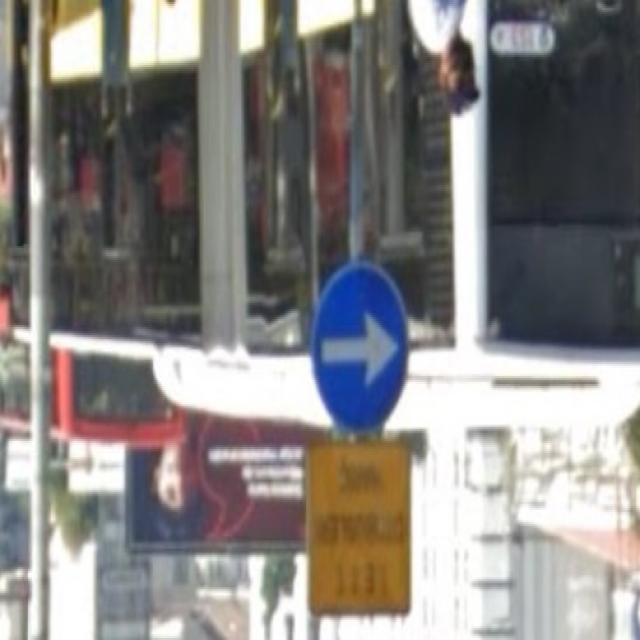Turn Right: (302, 257, 416, 436)
